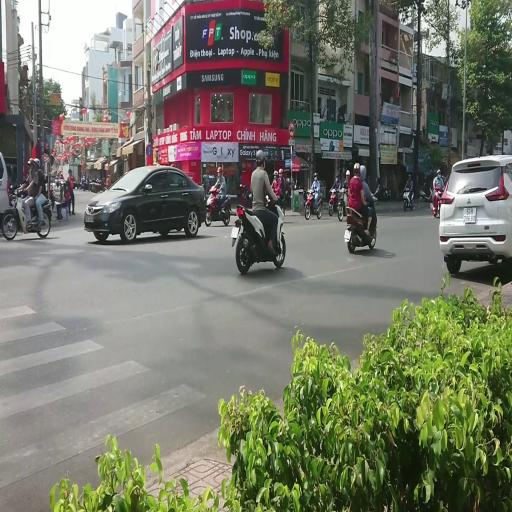bikes: (231, 196, 286, 273), (2, 181, 51, 240), (344, 190, 378, 252), (2, 181, 25, 240), (204, 186, 232, 226), (304, 188, 322, 220), (430, 186, 444, 218), (328, 186, 341, 216), (237, 184, 253, 208), (337, 187, 348, 221), (89, 176, 106, 192), (403, 188, 414, 210), (276, 192, 286, 216), (371, 184, 381, 204), (419, 187, 433, 201)
car: (87, 158, 211, 254)
helmet: (256, 150, 264, 162), (360, 164, 366, 180), (354, 162, 360, 173), (27, 158, 34, 166), (34, 158, 40, 167), (217, 167, 222, 174), (273, 170, 278, 177), (345, 170, 350, 176), (436, 169, 441, 175), (279, 168, 283, 174), (314, 172, 318, 178), (408, 174, 411, 180), (68, 169, 72, 173), (336, 174, 339, 179), (82, 176, 85, 181)
